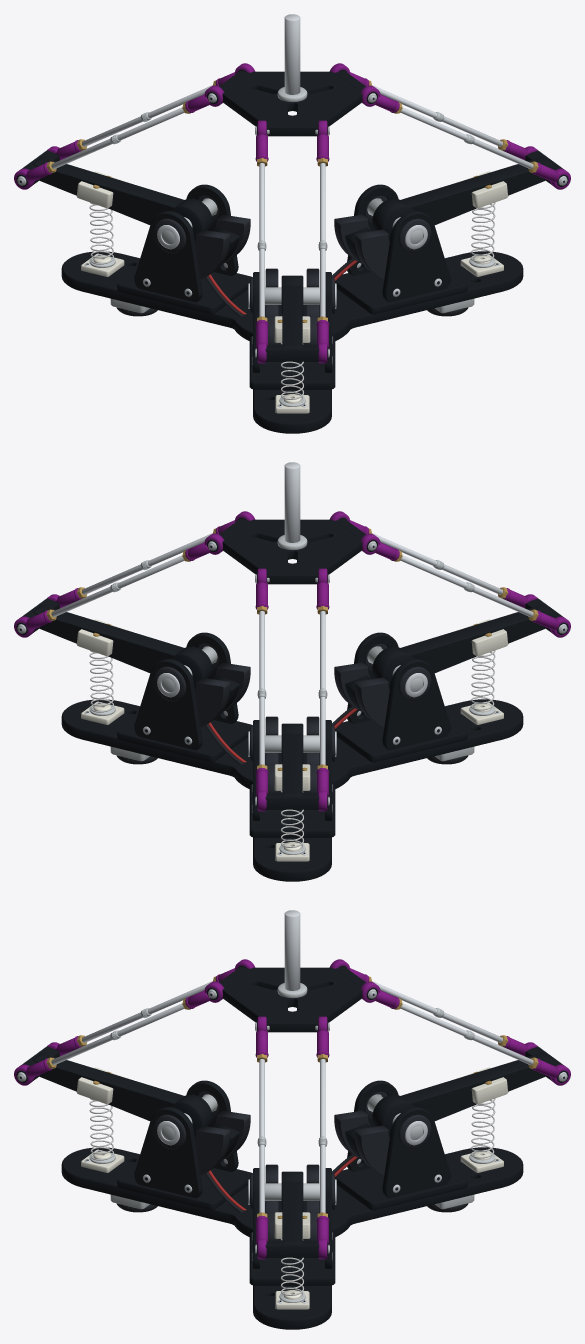
The model's file is delta-stainless.glb.
3 views of the same model, one above another, from view 1: azimuth 30°, elevation 25°; view 2: azimuth 150°, elevation 25°; view 3: azimuth 270°, elevation 25° (orthographic).
Visible parts, largest first — view 1: Dark three-lobed baseplate, Bearing pedestal cheek (×6), Driven arm (×3), Actuator mounting sole (×3), Black platform / three clevis sides, Arc magnet / pole shoe (×6), Silver tie rod (×6), Hub (×2), Stainless spring wire (×2), Pale upper spring saddle (×2), Upright polished probe, Actuated elbow crossbar (+2 smaller); view 2: Dark three-lobed baseplate, Bearing pedestal cheek (×6), Driven arm (×3), Actuator mounting sole (×3), Black platform / three clevis sides, Arc magnet / pole shoe (×6), Silver tie rod (×6), Hub (×2), Stainless spring wire (×2), Pale upper spring saddle (×2), Upright polished probe, Actuated elbow crossbar (+2 smaller); view 3: Dark three-lobed baseplate, Bearing pedestal cheek (×6), Driven arm (×3), Actuator mounting sole (×3), Black platform / three clevis sides, Arc magnet / pole shoe (×6), Silver tie rod (×6), Hub (×2), Stainless spring wire (×2), Pale upper spring saddle (×2), Upright polished probe, Actuated elbow crossbar (+2 smaller).
Part boxes in pixels (box(x1,y1,x2,y2)): Dark three-lobed baseplate: box(61, 251, 523, 433); Bearing pedestal cheek (×6): box(134, 184, 450, 372); Driven arm (×3): box(32, 157, 552, 348); Actuator mounting sole (×3): box(117, 270, 467, 389); Black platform / three clevis sides: box(222, 71, 362, 126); Arc magnet / pole shoe (×6): box(195, 214, 389, 344); Silver tie rod (×6): box(51, 85, 533, 316); Hub (×2): box(171, 198, 413, 241); Stainless spring wire (×2): box(89, 202, 495, 264); Pale upper spring saddle (×2): box(76, 171, 508, 208); Upright polished probe: box(284, 14, 300, 94); Actuated elbow crossbar: box(265, 344, 319, 361); Dark three-lobed baseplate: box(61, 699, 523, 881); Bearing pedestal cheek (×6): box(134, 632, 450, 820); Driven arm (×3): box(32, 605, 552, 796); Actuator mounting sole (×3): box(117, 718, 467, 837); Black platform / three clevis sides: box(222, 519, 362, 574); Arc magnet / pole shoe (×6): box(195, 662, 389, 792); Silver tie rod (×6): box(51, 533, 533, 764); Hub (×2): box(171, 646, 413, 689); Stainless spring wire (×2): box(89, 650, 495, 712); Pale upper spring saddle (×2): box(76, 619, 508, 656); Upright polished probe: box(284, 462, 300, 542); Actuated elbow crossbar: box(265, 792, 319, 809); Dark three-lobed baseplate: box(61, 1147, 523, 1329); Bearing pedestal cheek (×6): box(134, 1080, 450, 1268); Driven arm (×3): box(32, 1053, 552, 1244); Actuator mounting sole (×3): box(117, 1166, 467, 1285); Black platform / three clevis sides: box(222, 967, 362, 1022); Arc magnet / pole shoe (×6): box(195, 1110, 389, 1240); Silver tie rod (×6): box(51, 981, 533, 1212); Hub (×2): box(171, 1094, 413, 1137); Stainless spring wire (×2): box(89, 1098, 495, 1160); Pale upper spring saddle (×2): box(76, 1067, 508, 1104); Upright polished probe: box(284, 910, 300, 990); Actuated elbow crossbar: box(265, 1240, 319, 1257).
Size of the model in its own units: 0.2818 by 0.2115 by 0.3252.
